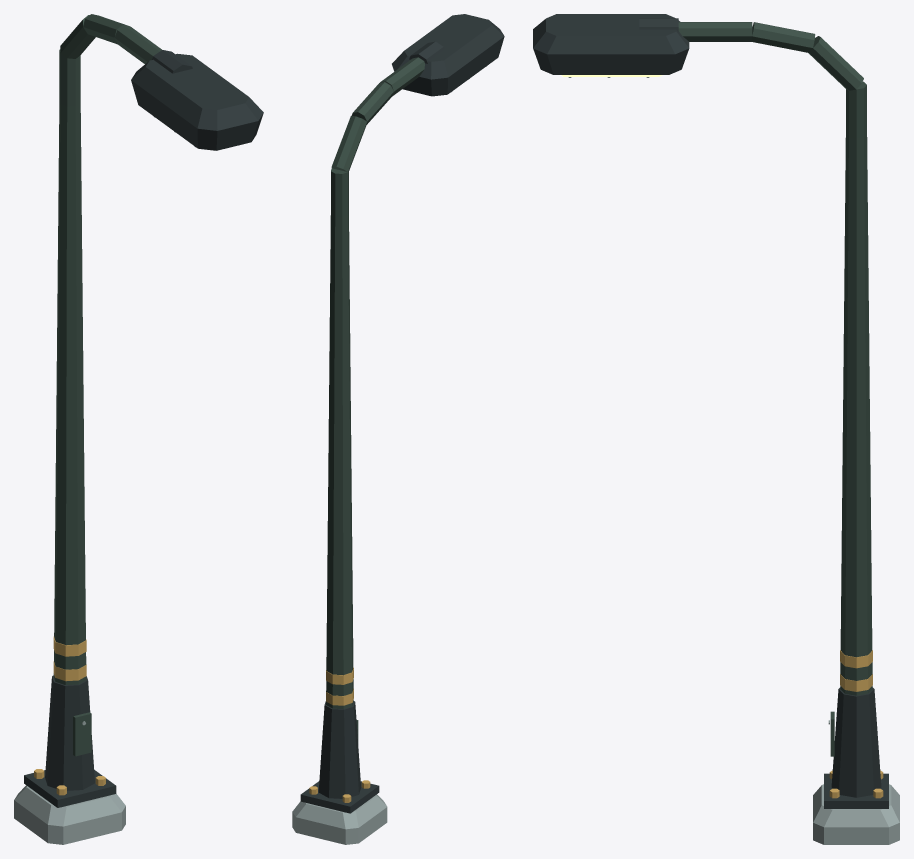
File: street_lamp.glb
3 renders of one model, left to right at view 1: azimuth 30°, elevation 25°; view 2: azimuth 150°, elevation 25°; view 3: azimuth 270°, elevation 25°, orthographic. The views are drawn at different scales.
Parts seen in each view (by area): view 1: Body; view 2: Body; view 3: Body.
Boxes of the visible parts, x1,y1,x2,y2 form: Body: (14, 14, 263, 844); Body: (292, 14, 504, 844); Body: (533, 14, 899, 844).
Bounding box in the file's own units: 0.4 × 4.11 × 1.69.
